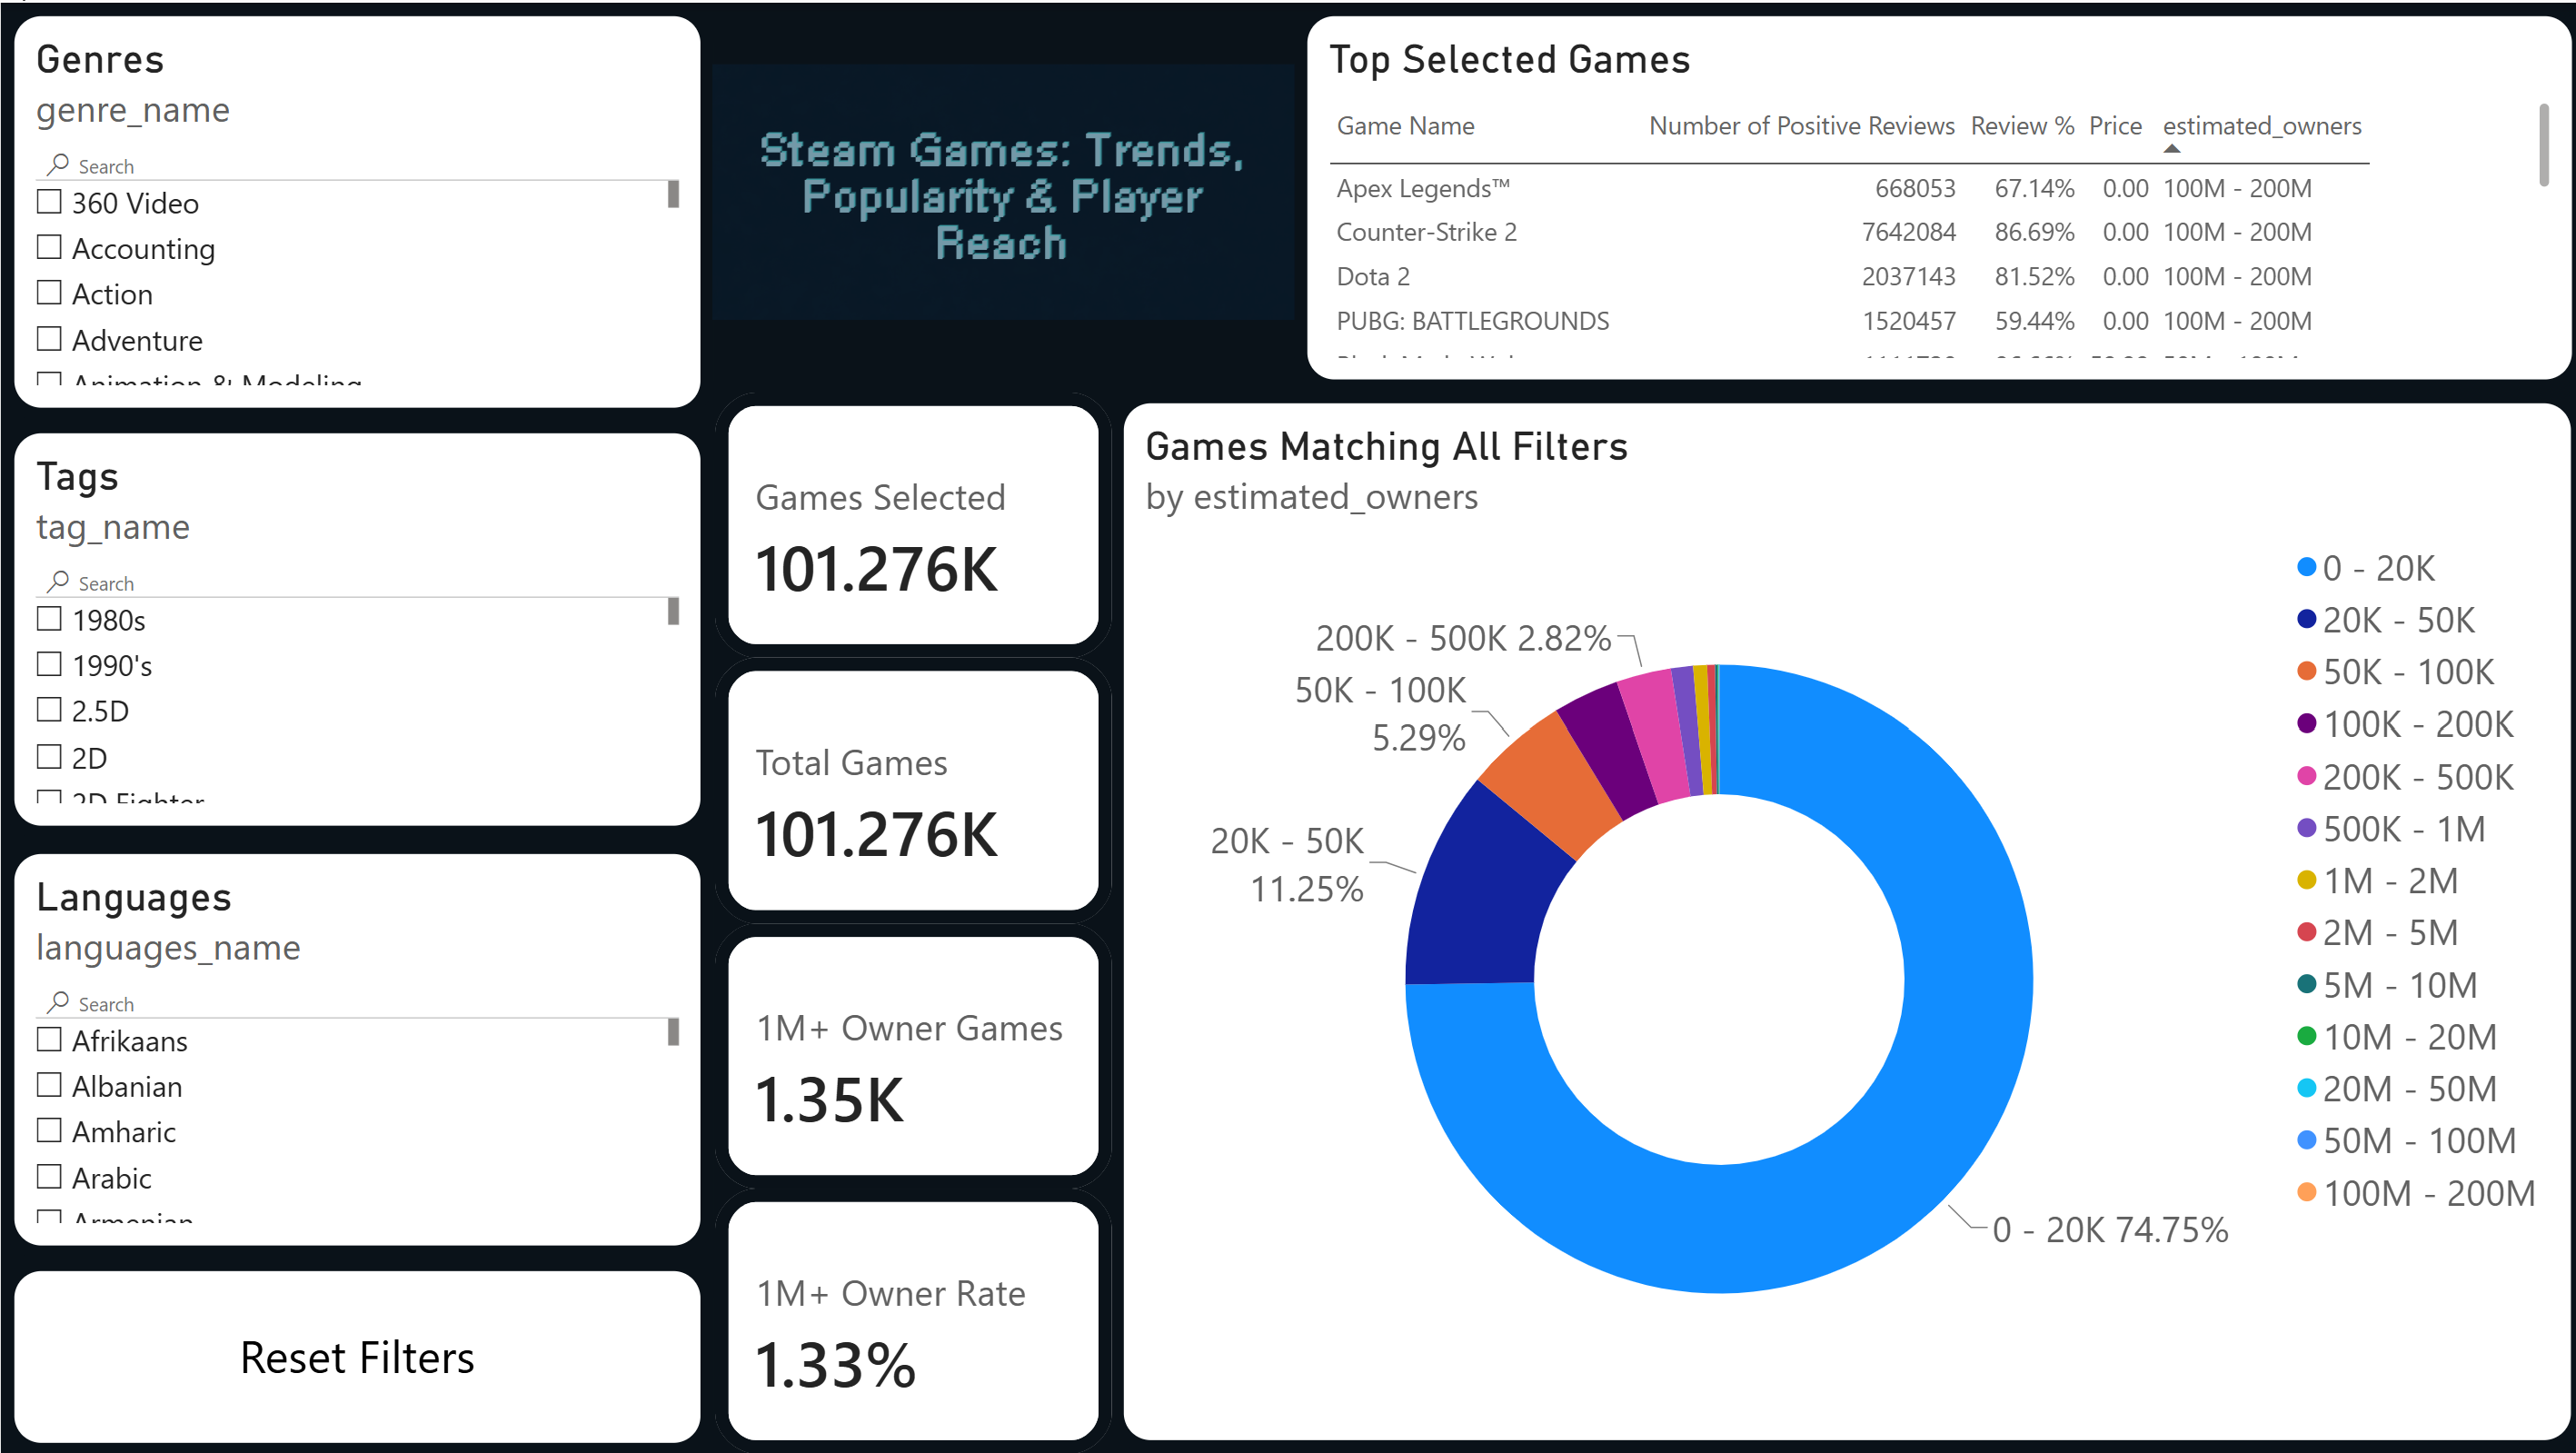

Layout of this report page (visuals, bound fields, positions):
{"tool":"powerbi","page":{"name":"Page 1","canvas":[1920,1080],"ordinal":0},"visuals":[{"type":"donutChart","fields":{"Category":["public games.estimated_owners"],"Y":["public games.Games Matching All Genres"]},"box":[825.6,288.2,1095,790],"z":0},{"type":"listSlicer","title":"Genres","fields":{"Values":["public genres.genre_name"]},"box":[0,0,530,310.8],"z":1000,"group":"g1"},{"type":"cardVisual","fields":{"Data":["public games.Games Matching All Genres","public games.Total Games Matching All Genres","public games.Games 1M+ Owners","public games.1M+ Owner Rate"]},"box":[530,290,295,790],"z":1000},{"type":"tableEx","title":"Top Selected Games","fields":{"Values":["public games.name","Sum(public games.positive)","public games.Percent Positive","public games.price","public games.estimated_owners"]},"box":[961.2,0,960,290],"z":2000},{"type":"actionButton","box":[0,932.5,530,147.5],"z":3000},{"type":"group","id":"g1","title":"Group 1","box":[0,0,530,932.5],"z":4000},{"type":"listSlicer","title":"Tags","fields":{"Values":["public tags.tag_name"]},"box":[0,310.8,530,310.8],"z":4000,"group":"g1"},{"type":"image","box":[529.2,30.9,431.9,220.7],"z":5000},{"type":"listSlicer","title":"Languages","fields":{"Values":["public languages.languages_name"]},"box":[0,621.7,530,310.8],"z":6000,"group":"g1"}]}

Visuals, with their boxes in screenshot pixels (x1, y1, x2, y2), scaled from the page's 1920x1080 canvas onto the 2576x1453 screenshot:
donutChart - public games.estimated_owners x public games.Games Matching All Genres: bbox=[1108, 388, 2575, 1450]
"Genres" listSlicer: bbox=[0, 0, 711, 418]
cardVisual - public games.Games Matching All Genres x public games.Total Games Matching All Genres: bbox=[711, 390, 1107, 1452]
"Top Selected Games" tableEx: bbox=[1289, 0, 2575, 390]
actionButton: bbox=[0, 1255, 711, 1452]
"Group 1" group: bbox=[0, 0, 711, 1255]
"Tags" listSlicer: bbox=[0, 418, 711, 836]
image: bbox=[710, 42, 1289, 339]
"Languages" listSlicer: bbox=[0, 836, 711, 1255]
